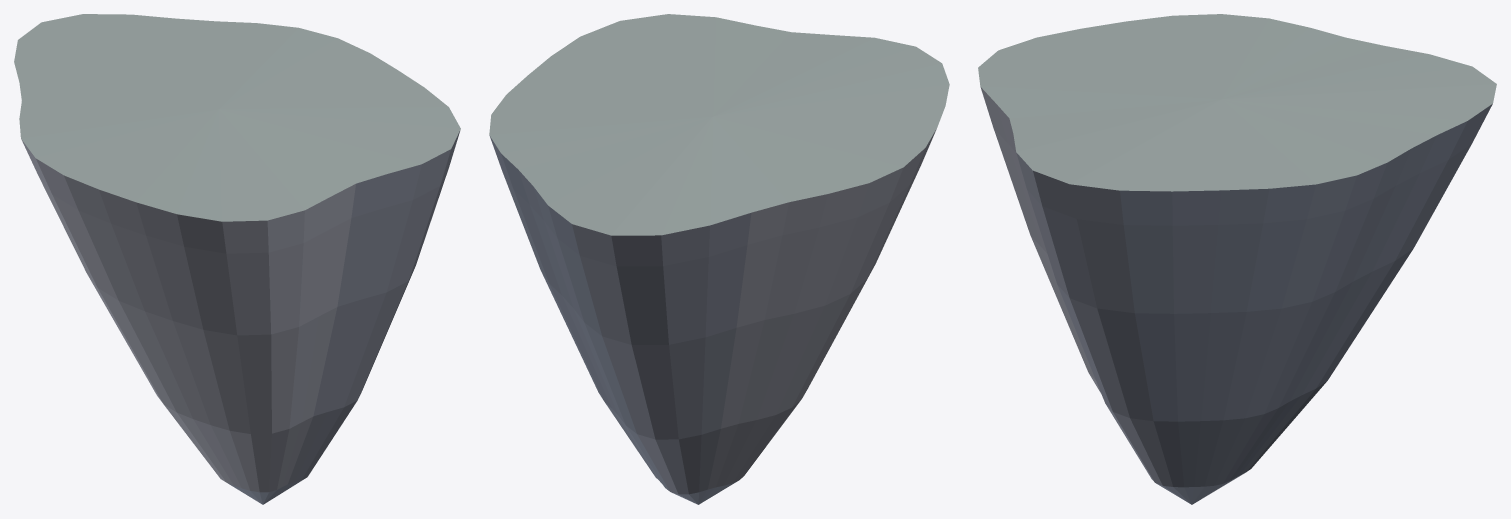
File: crag.glb
3 renders of one model, left to right at view 1: azimuth 30°, elevation 25°; view 2: azimuth 150°, elevation 25°; view 3: azimuth 270°, elevation 25°, orthographic. The views are drawn at different scales.
Visible parts, largest first — view 1: LOD0; view 2: LOD0; view 3: LOD0.
Part boxes in pixels (<box>): LOD0: <box>14,14,460,504</box>; LOD0: <box>489,14,949,504</box>; LOD0: <box>978,14,1496,504</box>.
Size of what is drawn, in the model's own units: 42.26 by 43.45 by 52.2.
